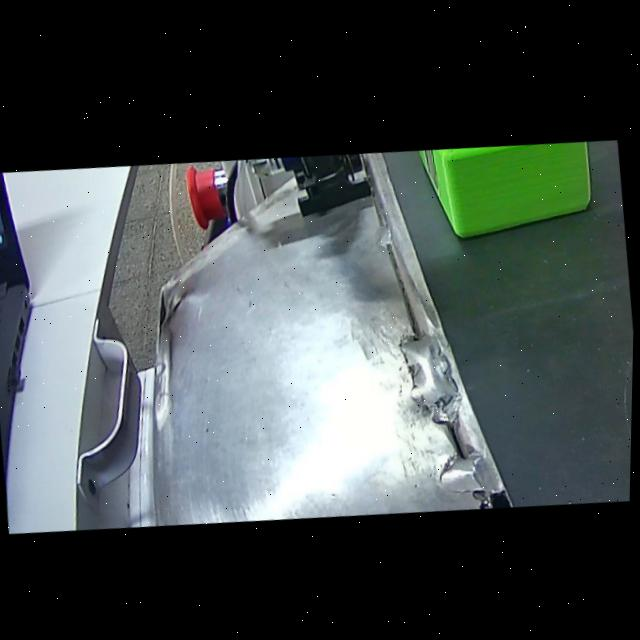greenBox: (403, 126, 616, 260)
